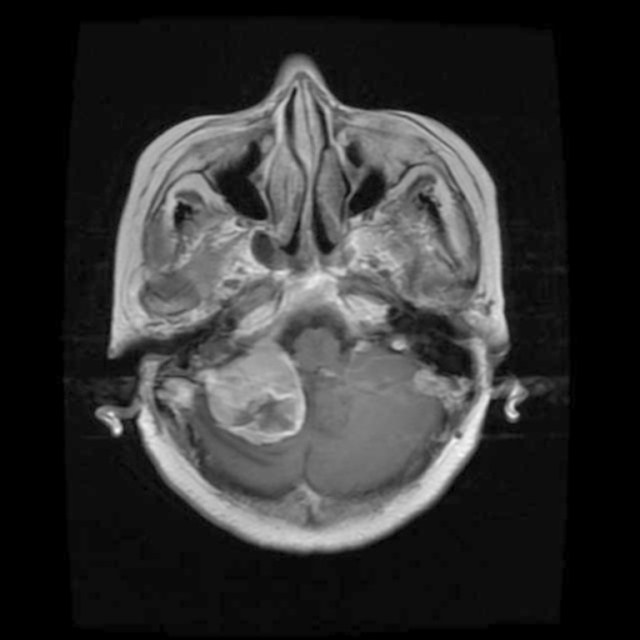meningioma tumor: (203, 329, 305, 445)
